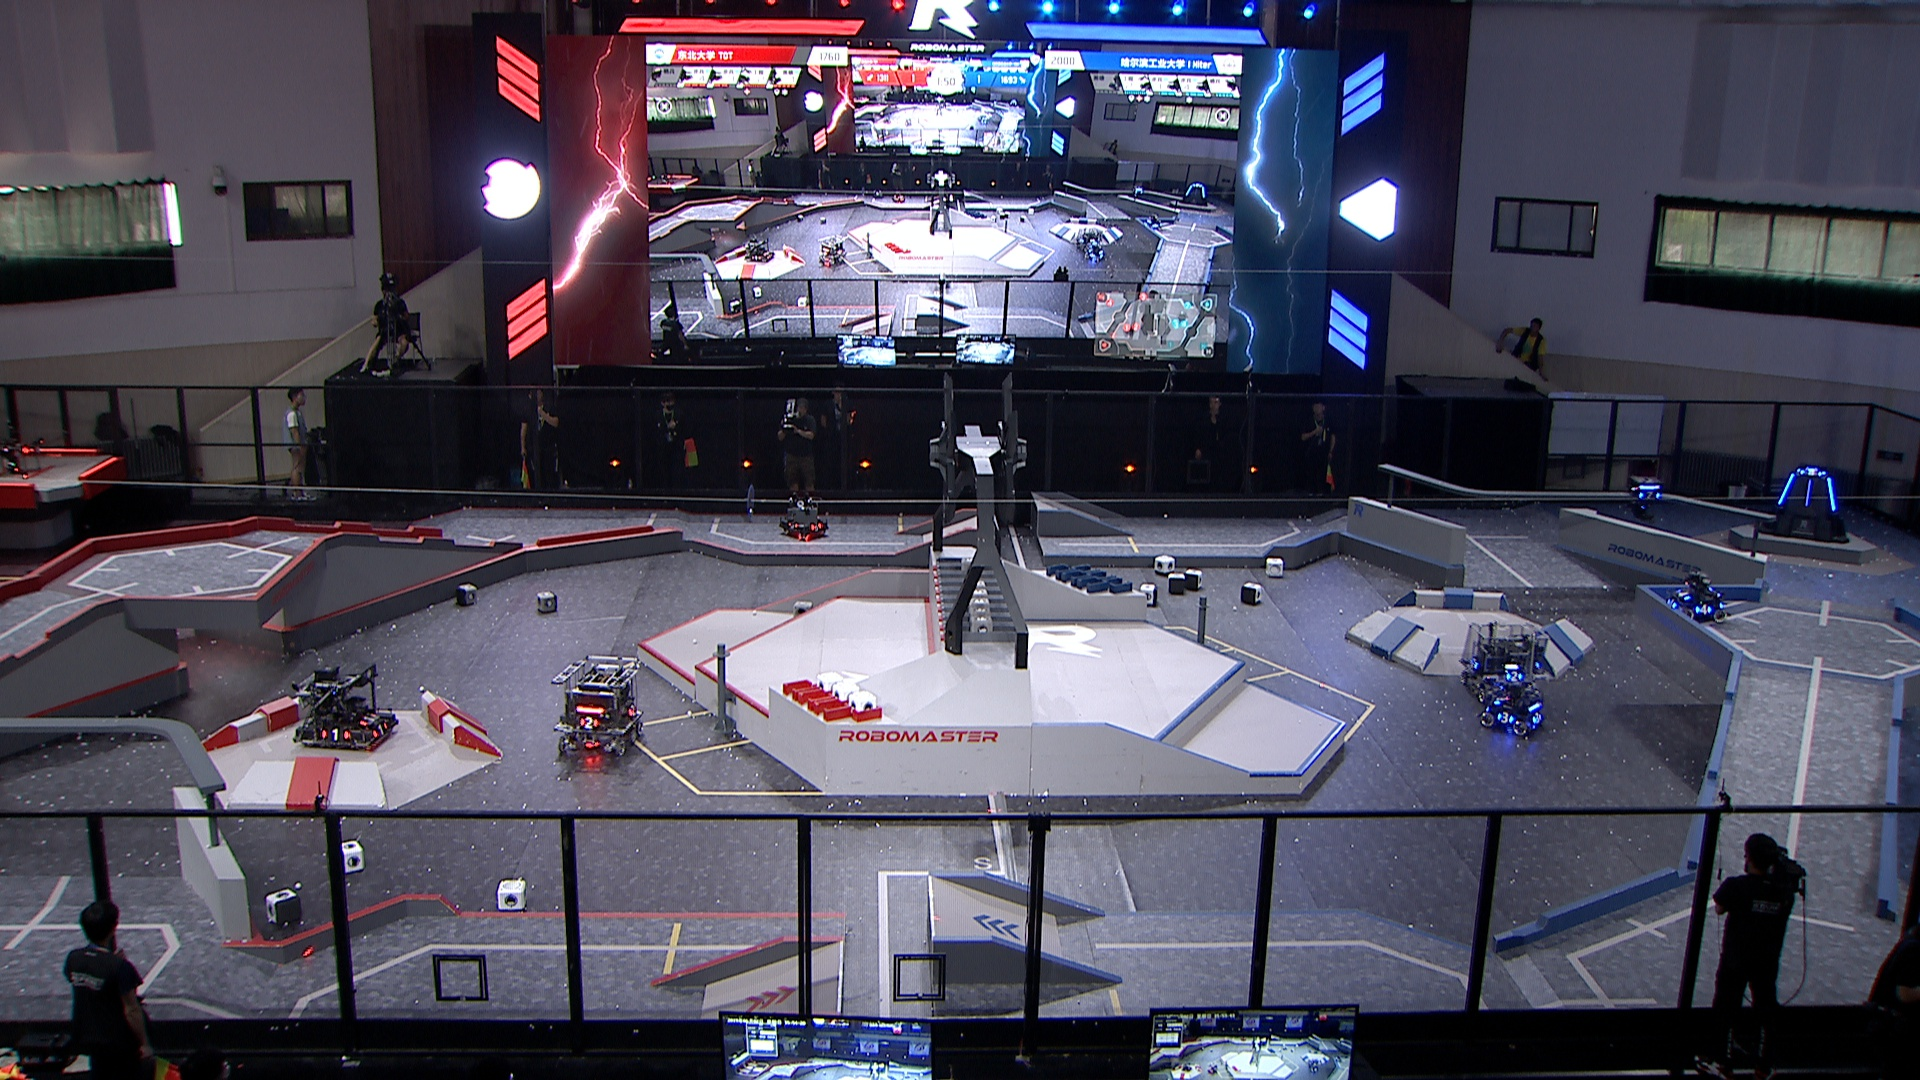armor: (1776, 471, 1799, 505), (1822, 473, 1840, 516), (320, 728, 353, 744), (368, 719, 390, 740), (357, 711, 380, 731), (1803, 476, 1816, 509), (575, 713, 600, 731), (1494, 709, 1518, 727), (1636, 489, 1664, 504), (1501, 670, 1524, 684), (1797, 465, 1822, 479), (624, 699, 641, 717), (1528, 708, 1545, 725), (1693, 603, 1714, 616), (1675, 588, 1693, 603), (1490, 694, 1506, 709), (1466, 655, 1480, 673), (1665, 597, 1680, 612), (808, 520, 825, 531)
base: (1754, 460, 1851, 546)
car: (551, 651, 647, 757), (289, 662, 400, 752), (1458, 618, 1542, 694), (1477, 680, 1551, 737), (1660, 566, 1727, 622), (778, 496, 829, 545)
ignore: (814, 233, 851, 270), (1178, 179, 1212, 208), (745, 235, 778, 262), (1077, 225, 1105, 253), (1087, 240, 1106, 262), (1147, 210, 1163, 232), (1133, 181, 1145, 199)
watcher: (1626, 467, 1667, 524)
